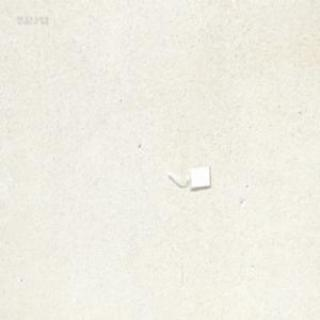LuggageTagtrack_idkeyframe: (166, 162, 211, 190)
